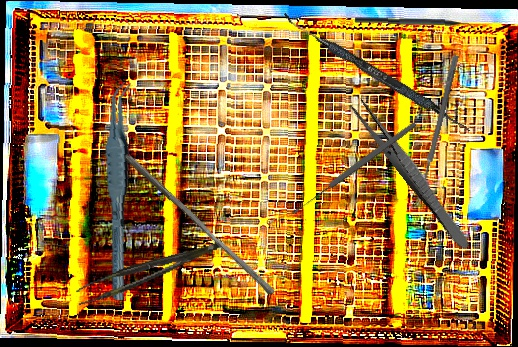Chopper: (353, 16, 480, 34)
Dressing Forceps: (347, 94, 476, 253)
Pusher: (117, 152, 281, 297)
Spatula Surgical: (278, 13, 475, 134)
Surgical Spoon: (290, 119, 419, 217), (414, 54, 459, 209)
Tissue Forceps: (85, 80, 152, 301), (72, 240, 229, 306)
